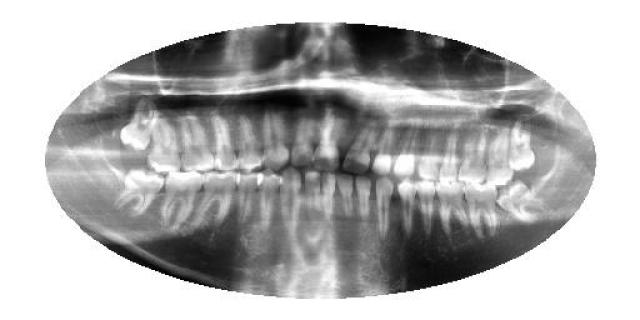Restorations: (498, 182, 544, 226), (508, 120, 536, 172)
